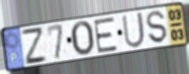7: (45, 22, 64, 62)
E: (92, 16, 119, 55)
O: (69, 20, 95, 58)
S: (145, 10, 169, 45)
U: (121, 11, 147, 50)
Z: (20, 26, 49, 66)
